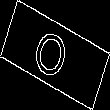O_SW: (33, 23, 77, 87)
